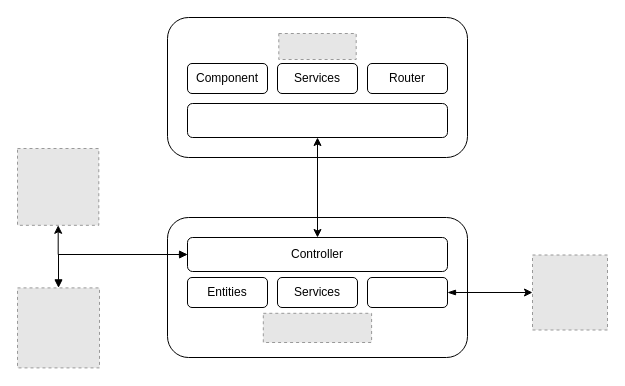
Image size: 625x386. Some labels were removed from this diagram. Grey dashed boxes stand in for pictures. The shapes that lost their labels are listed below. From the top down, each one's box as (x1, y1, x2, y2) in pixels, then its label:
(186, 102, 448, 138): Axios HTTP Library
(366, 276, 448, 308): Repository
